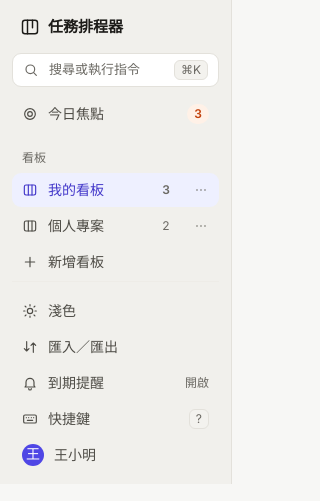
Test case: Sidebar › Esc in the inline rename cancels it and claims the key (preventDefault)
Double-click the link "個人專案 2": (96, 226) [22,217,170,234]
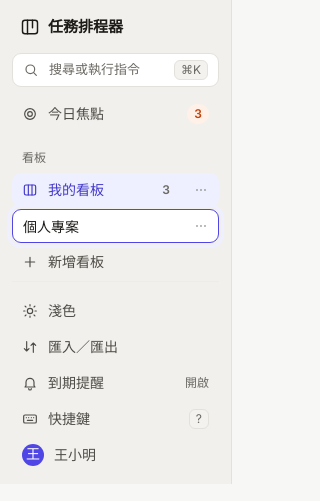
Replace the text in the field named "看板名稱" with "改一半": (116, 226) [12,208,219,242]
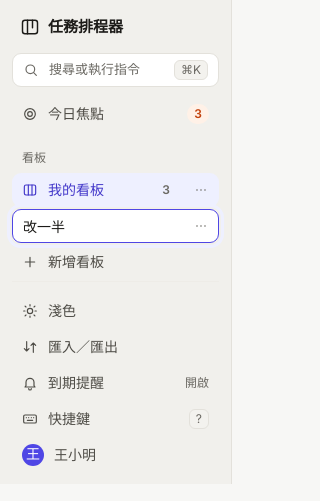
Press Escape in the field named "看板名稱", box [12,208,219,242]
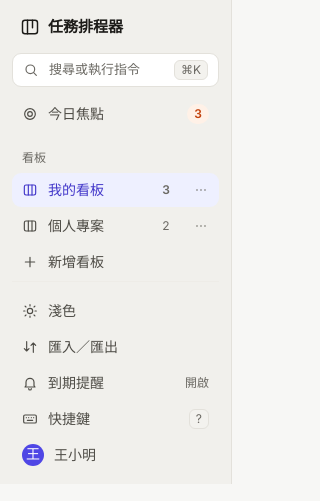
Result: the field labelled "看板名稱" is gone
Result: the link "個人專案 2" is shown at [22,217,170,234]
